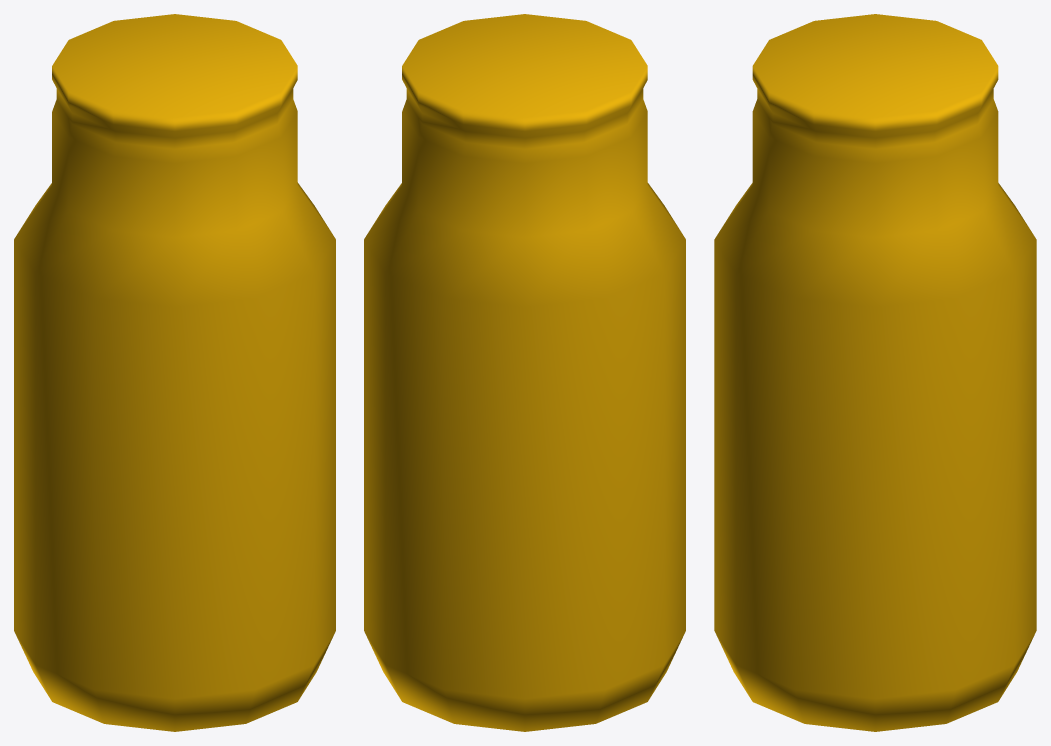
File: Medication_05.fbx
3 renders of one model, left to right at view 1: azimuth 30°, elevation 25°; view 2: azimuth 150°, elevation 25°; view 3: azimuth 270°, elevation 25°, orthographic.
Parts seen in each view (by area): view 1: Medication_05; view 2: Medication_05; view 3: Medication_05.
Boxes of the visible parts, x1,y1,x2,y2 form: Medication_05: (14, 14, 335, 731); Medication_05: (364, 14, 685, 731); Medication_05: (714, 14, 1036, 731).
Size of the model in its own units: 3.88 by 8.06 by 3.88.
